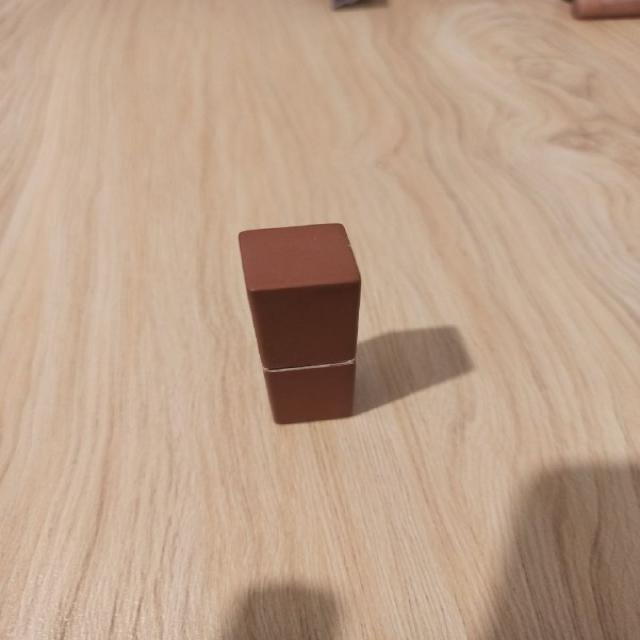lipstick: (236, 222, 362, 423)
